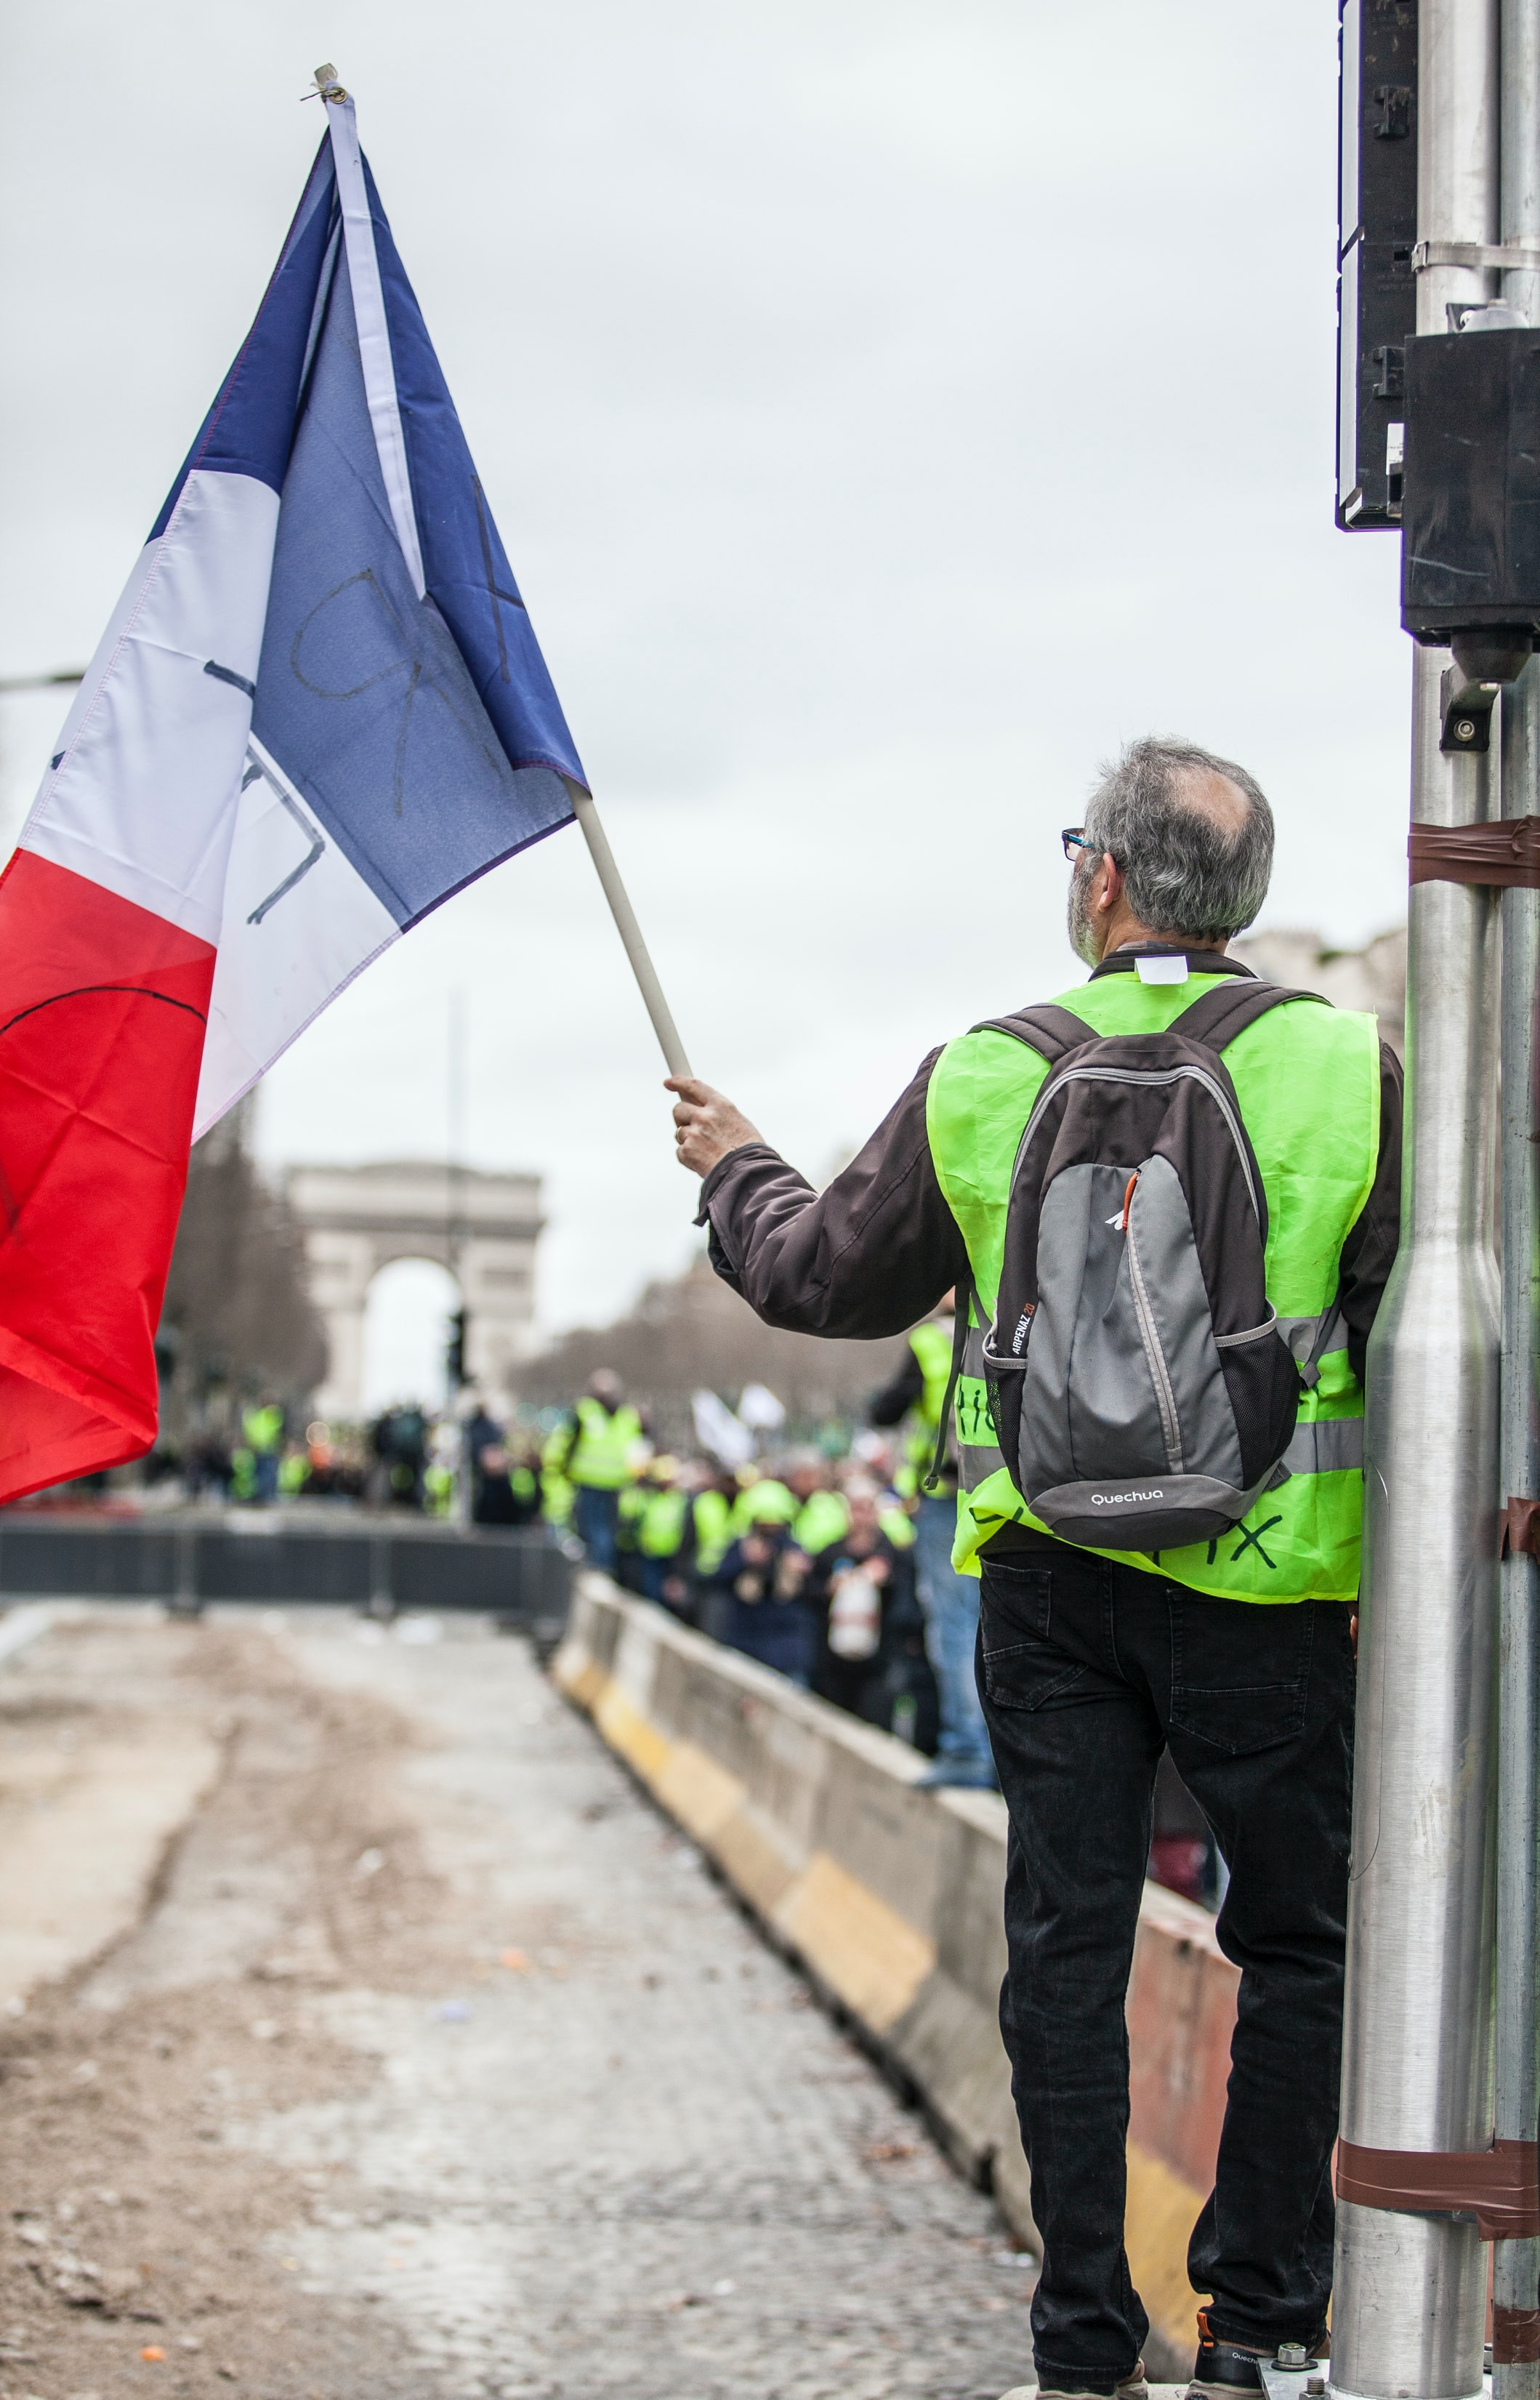Flag: (9, 121, 591, 1543)
